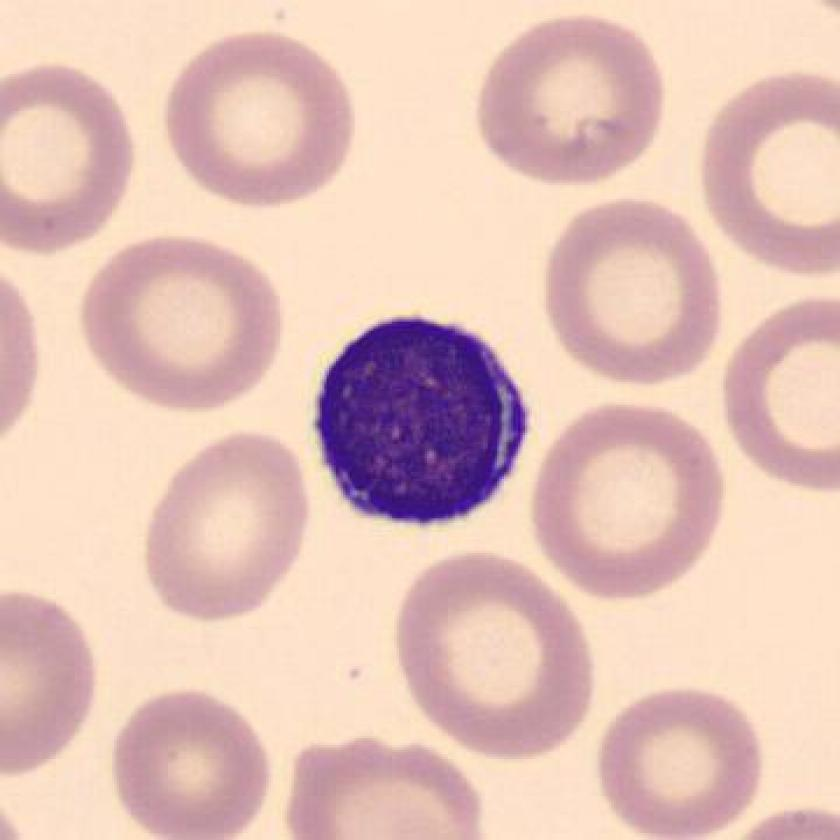lymphocyte: (298, 297, 543, 545)
